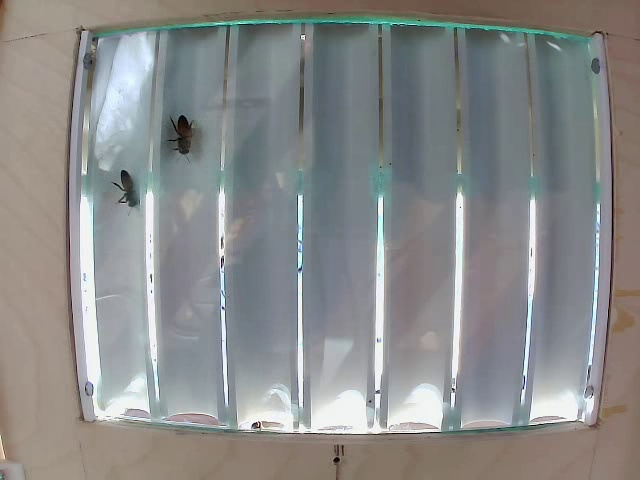bee: (172, 107, 203, 164), (109, 166, 148, 208)
